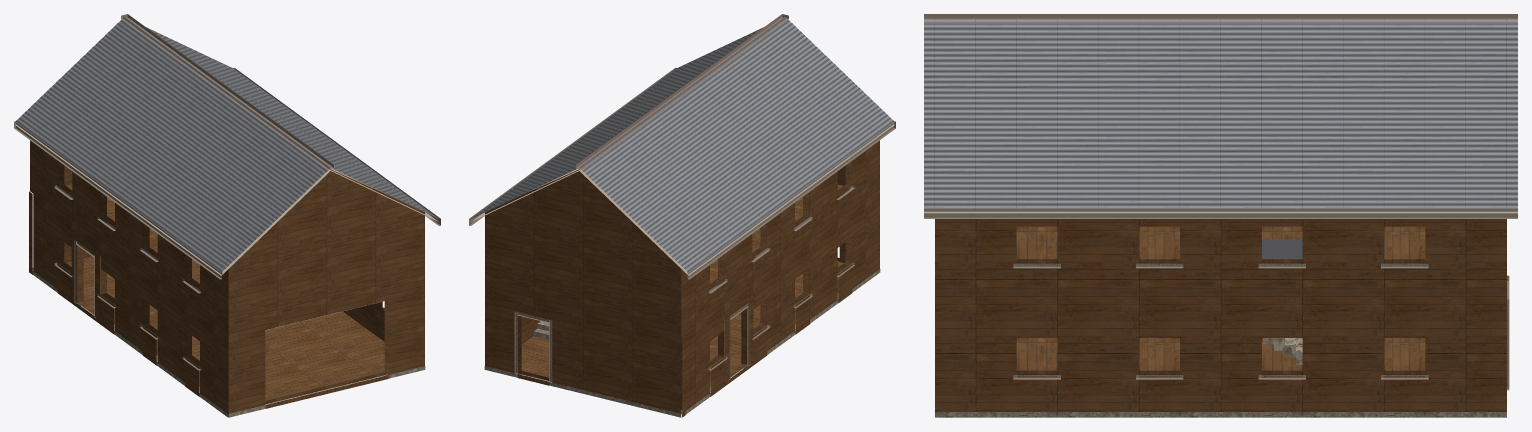
Rendered from boathouse.reveal-v1.lod0.glb.
3 renders of one model, left to right at view 1: azimuth 30°, elevation 25°; view 2: azimuth 150°, elevation 25°; view 3: azimuth 270°, elevation 25°, orthographic. The views are drawn at different scales.
Visible parts, largest first — view 1: boathouse; view 2: boathouse; view 3: boathouse.
Part boxes in pixels (x1,y1,x2,y2): boathouse: [14, 14, 440, 417]; boathouse: [469, 14, 895, 417]; boathouse: [924, 14, 1517, 417].
Bounding box in the file's own units: 8.98 × 8.98 × 14.54.
Materials: 4 (3 with a texture image).
